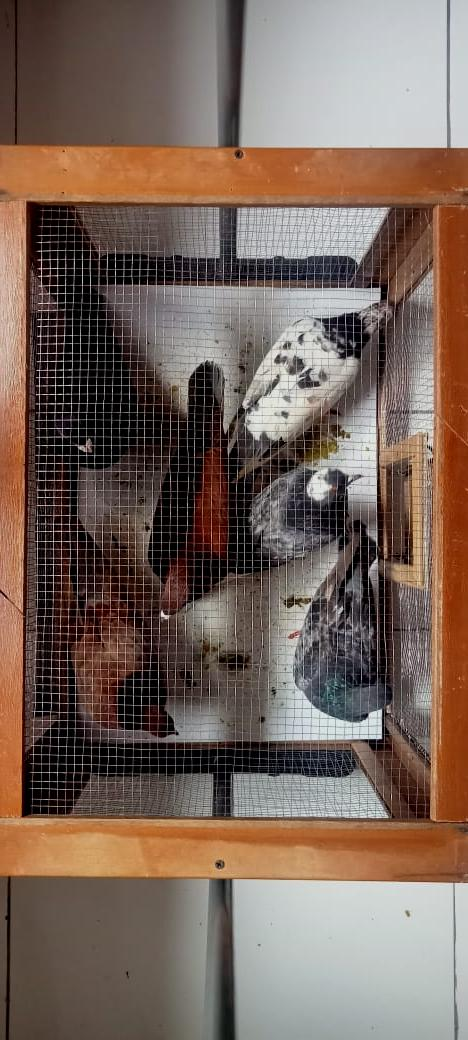Merpati: (225, 300, 395, 497), (53, 517, 181, 737), (147, 362, 235, 624), (294, 521, 393, 724), (218, 466, 364, 587), (44, 286, 138, 471)
